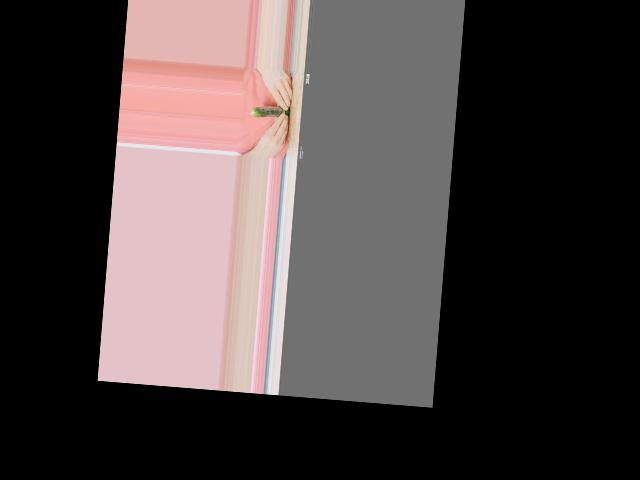cucumber: (250, 104, 290, 120)
